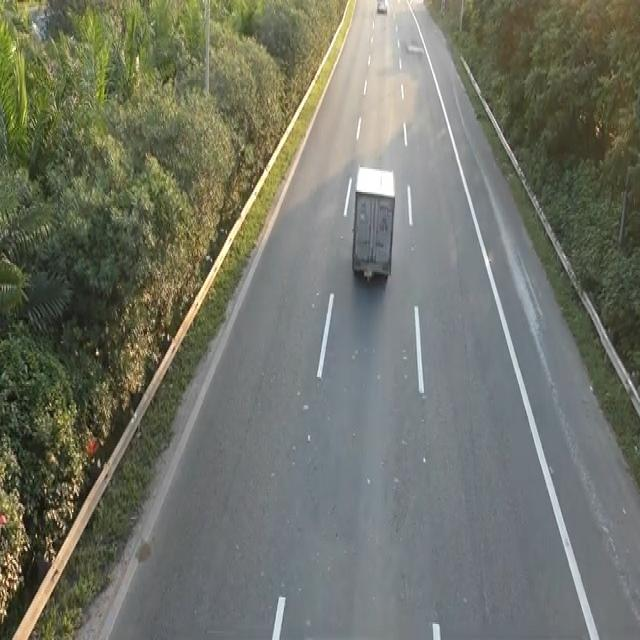minivan: (349, 160, 397, 284)
